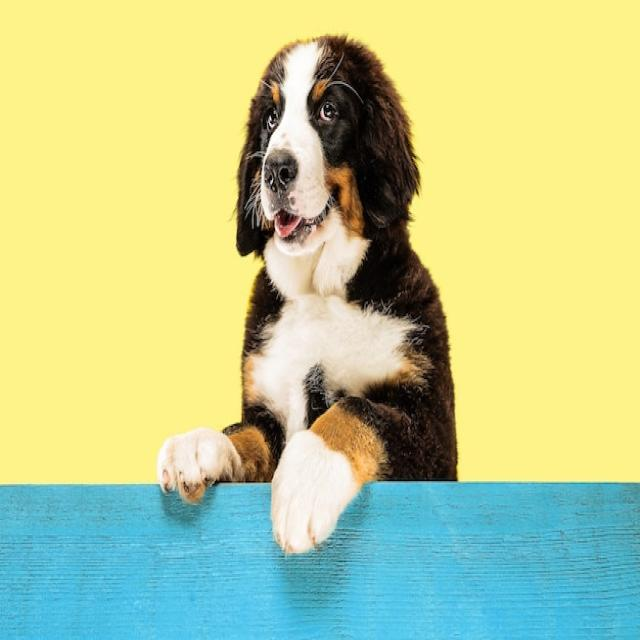Dog: (156, 36, 456, 554)
